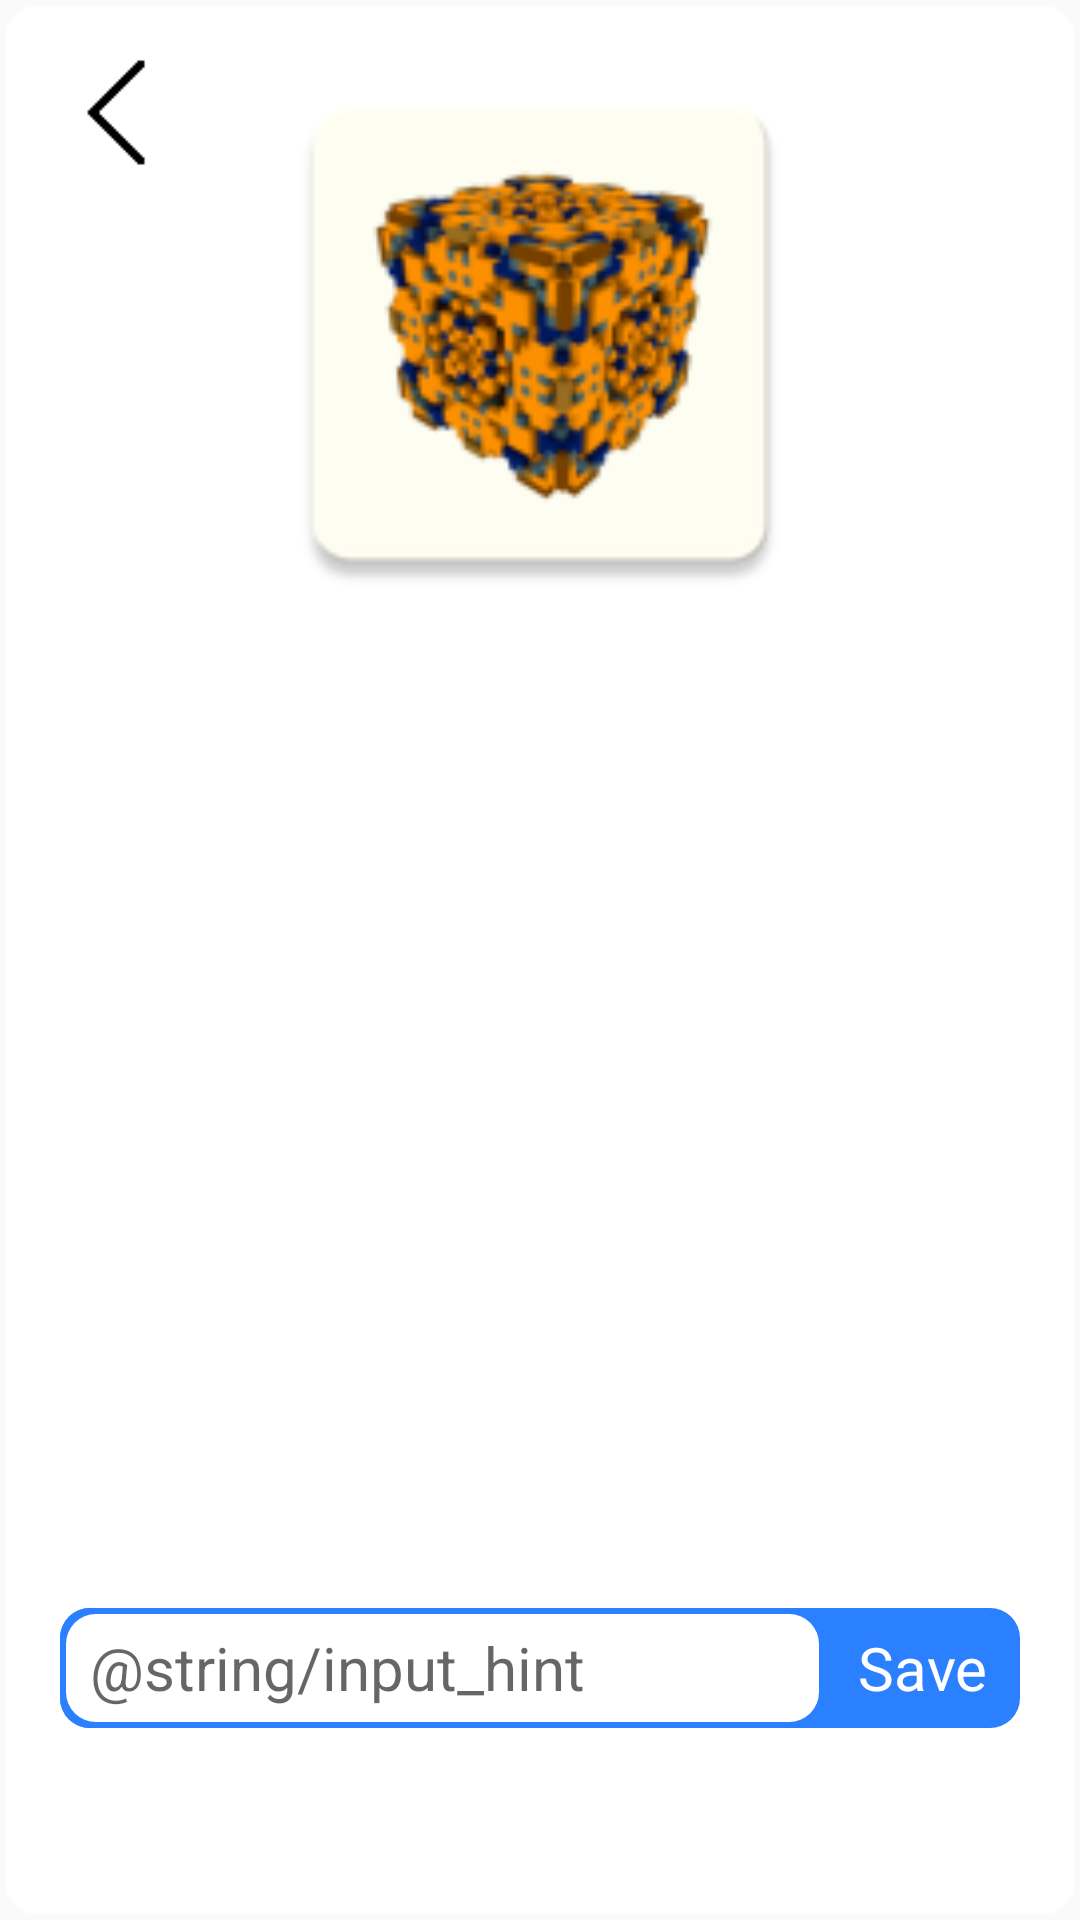

Named icons in this screenshot (1080 x 1920) and their centers, (x=x, y=y):
left: (x=116, y=112)
